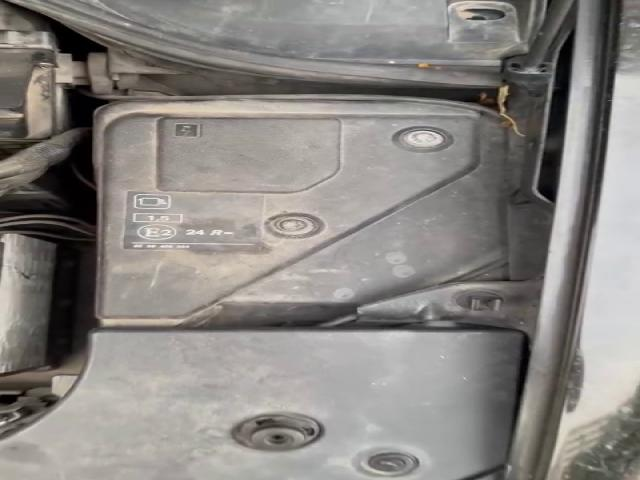accumulator: (1, 211, 78, 377)
fuse_box: (94, 95, 524, 329)
